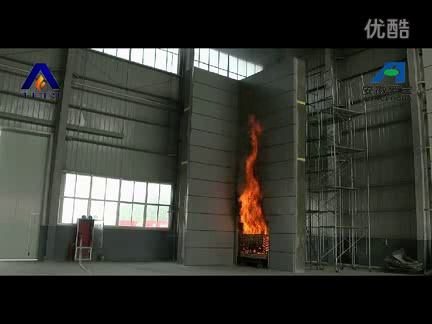fire: (237, 118, 267, 236)
